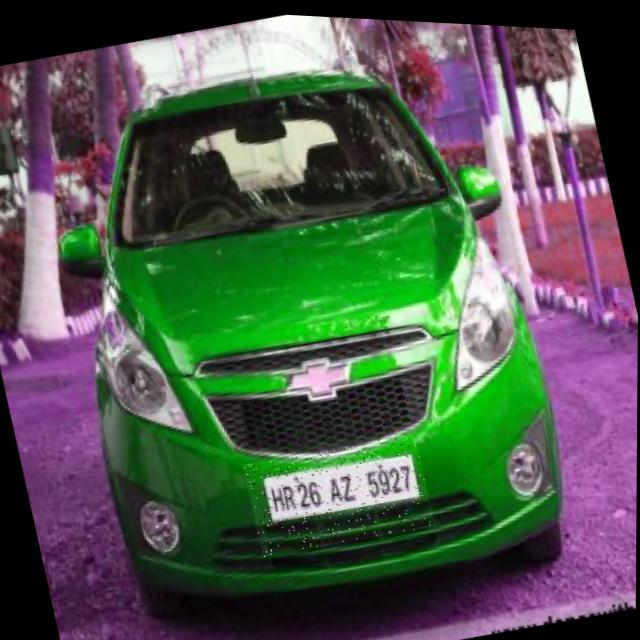license_plate: (242, 422, 436, 560)
